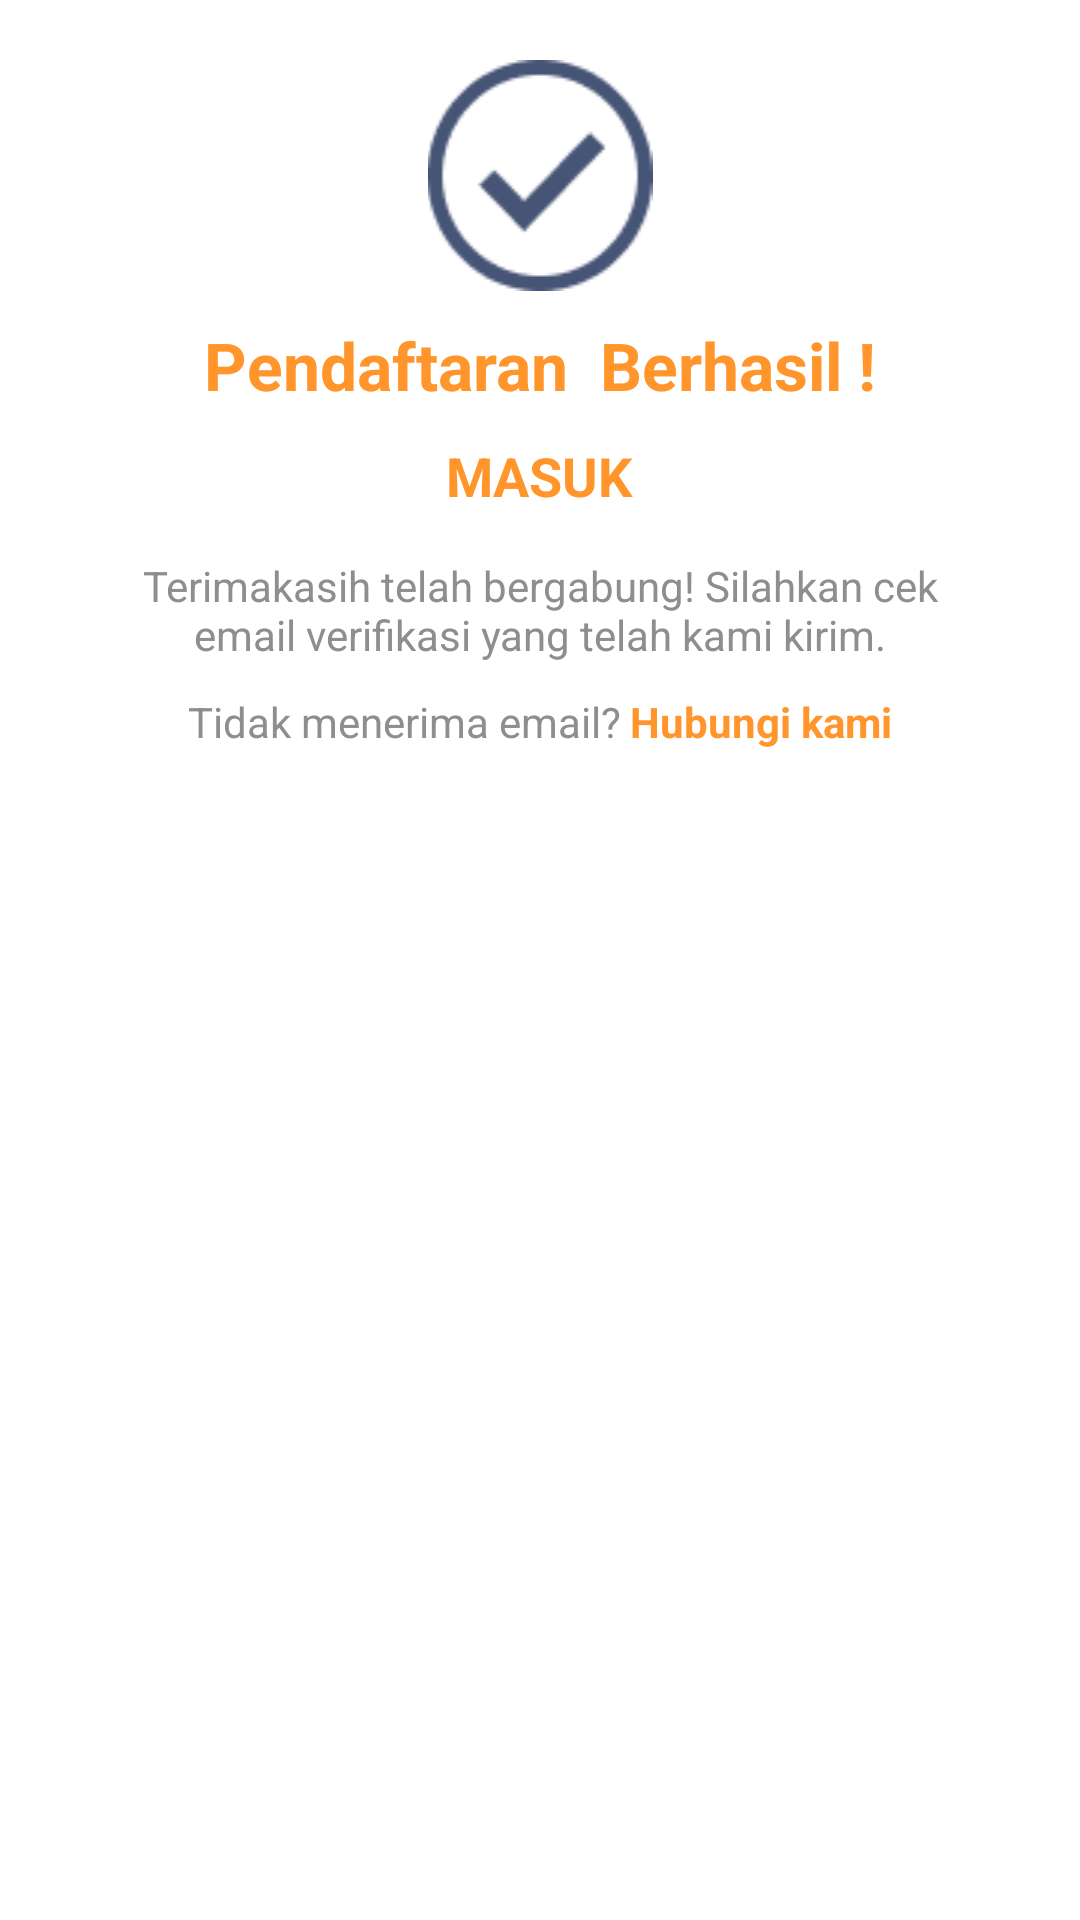

Icons on this 1080 x 1920 Android screen, each with its box as (x1, y1, x2, y2):
verifikasi: (428, 60, 653, 291)
